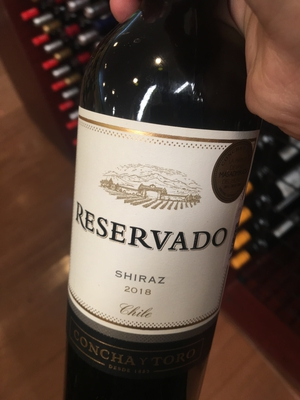reservado shiraz: (67, 31, 255, 400)
